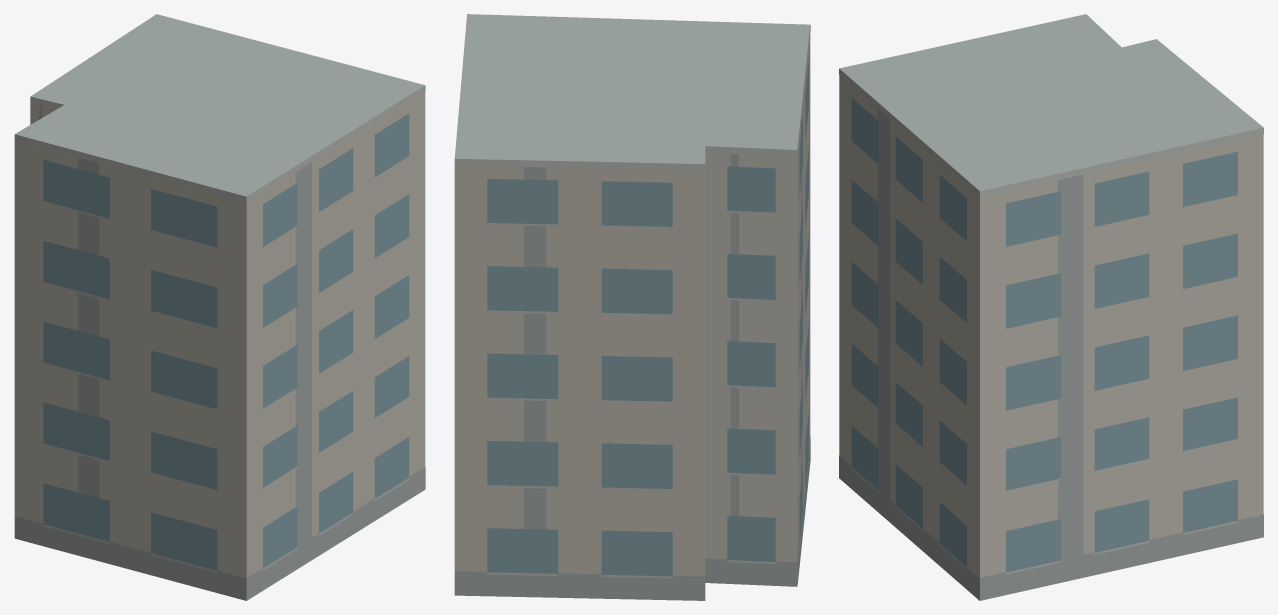
Rendered from survey-upis-32952265.glb.
3 renders of one model, left to right at view 1: azimuth 30°, elevation 25°; view 2: azimuth 150°, elevation 25°; view 3: azimuth 270°, elevation 25°, orthographic. The views are drawn at different scales.
Visible parts, largest first — view 1: survey-upis-32952265.tmp; view 2: survey-upis-32952265.tmp; view 3: survey-upis-32952265.tmp.
Part boxes in pixels (box(x1,y1,x2,y2)): survey-upis-32952265.tmp: box(14, 14, 425, 600); survey-upis-32952265.tmp: box(454, 14, 810, 600); survey-upis-32952265.tmp: box(839, 14, 1263, 600).
Bounding box in the file's own units: 14.3 × 15.41 × 14.49.
